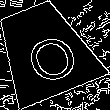O_NW: (11, 19, 78, 83)
